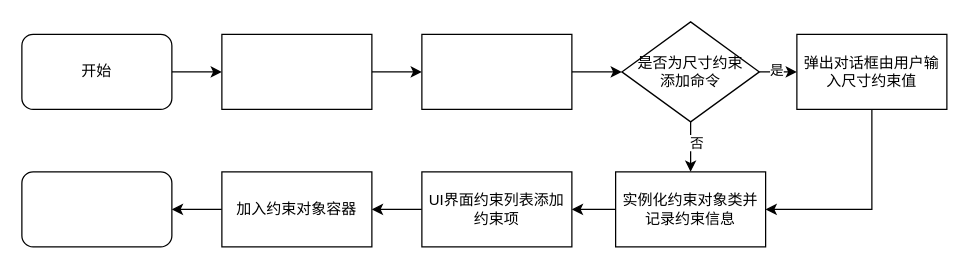
This 969x269 diagram has some shape labels left out. Here are the shapes that lost their labels. From the top down, the centre of each, then its label:
At point 296,71: "选中约束的图元".
At point 496,71: "点击添加约束命令".
At point 96,209: "结束".
